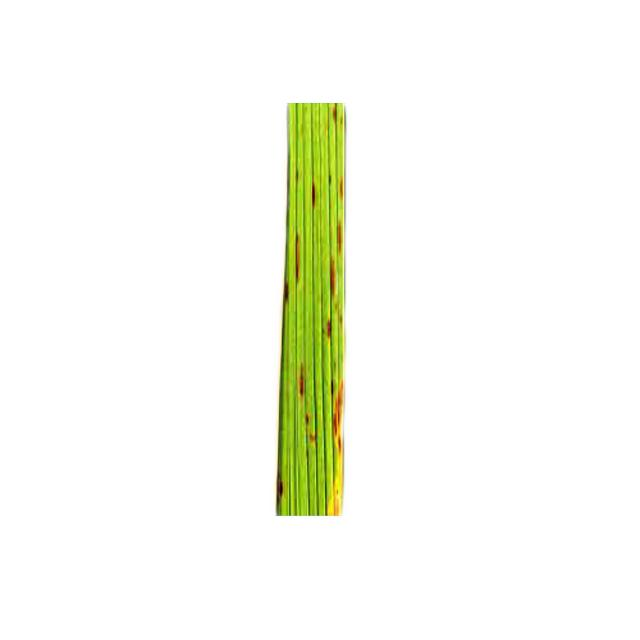Narrow brown: (238, 48, 406, 550)
